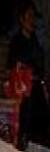hard-hat: (0, 0, 25, 60)
ppe-suit: (0, 0, 1, 2)
